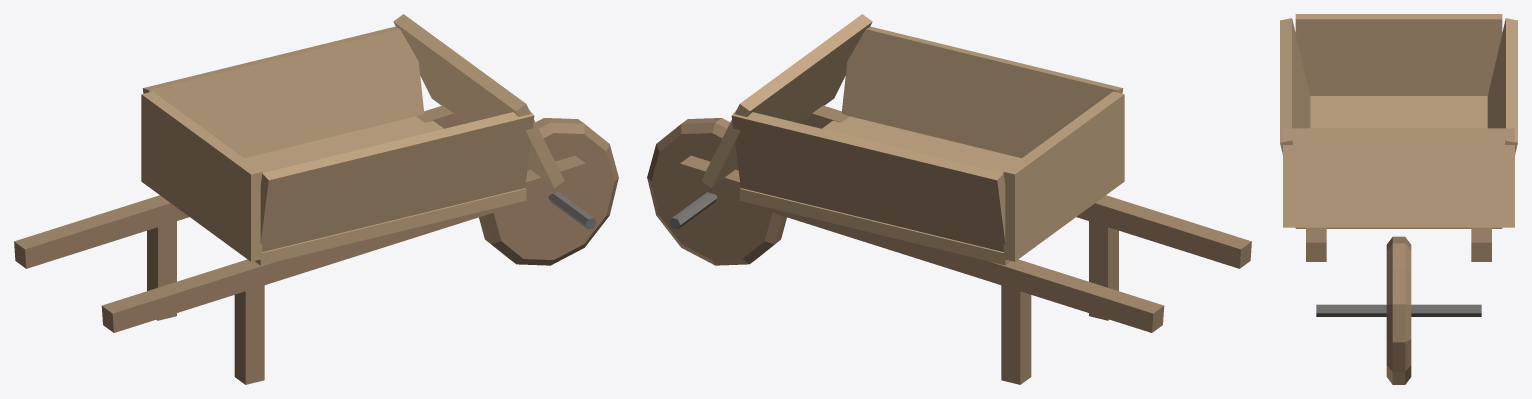
The model's file is prop-wheelbarrow-wood.fbx.
The picture shows the model from 3 angles, left to right: view 1: azimuth 30°, elevation 25°; view 2: azimuth 150°, elevation 25°; view 3: azimuth 270°, elevation 25°; orthographic projection. The views are drawn at different scales.
Parts seen in each view (by area): view 1: prop-wheelbarrow-wood; view 2: prop-wheelbarrow-wood; view 3: prop-wheelbarrow-wood.
Part boxes in pixels (x1,y1,x2,y2): prop-wheelbarrow-wood: (14, 14, 618, 384); prop-wheelbarrow-wood: (647, 14, 1251, 384); prop-wheelbarrow-wood: (1280, 14, 1517, 384).
Bounding box in the file's own units: 1.46 × 0.5651 × 0.5751.
